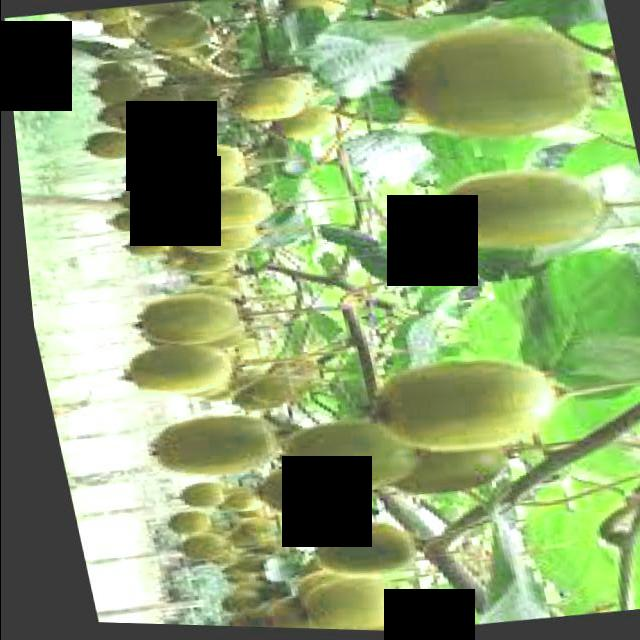kiwi: (371, 12, 617, 154), (356, 344, 563, 464), (420, 156, 613, 260), (263, 411, 412, 500), (136, 408, 282, 485), (373, 430, 513, 500), (119, 287, 252, 357), (294, 513, 417, 586), (250, 457, 366, 526), (108, 340, 233, 404), (288, 574, 400, 634), (158, 136, 261, 194), (177, 182, 279, 234), (228, 73, 316, 125), (142, 7, 226, 56), (170, 217, 266, 259), (163, 236, 246, 283), (79, 127, 147, 166), (271, 107, 345, 142), (164, 481, 226, 511), (158, 510, 206, 539)
